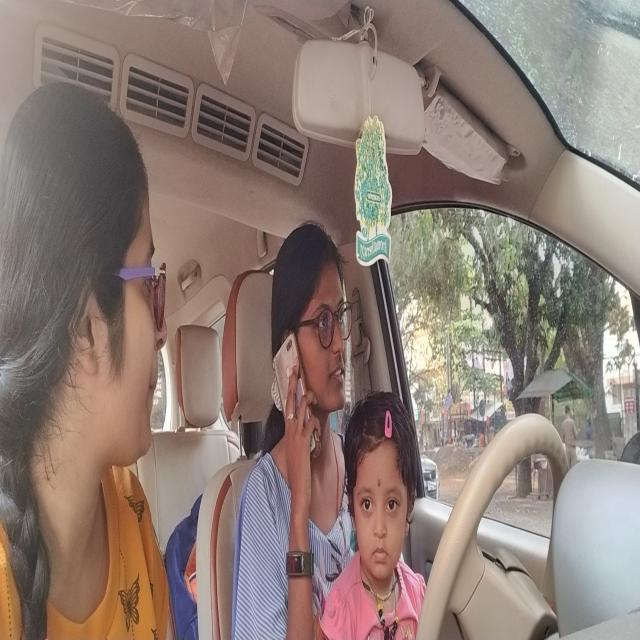child: (341, 388, 420, 585)
mobile: (273, 330, 317, 466)
person: (0, 71, 166, 515), (271, 213, 354, 435)
